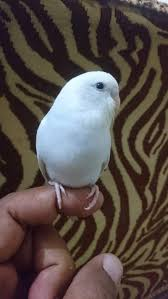budgie: (37, 69, 122, 214)
